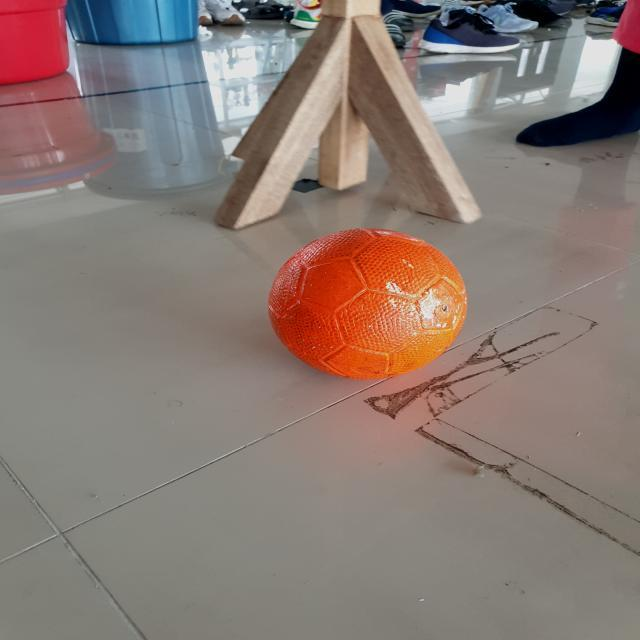bola: (262, 224, 472, 384)
